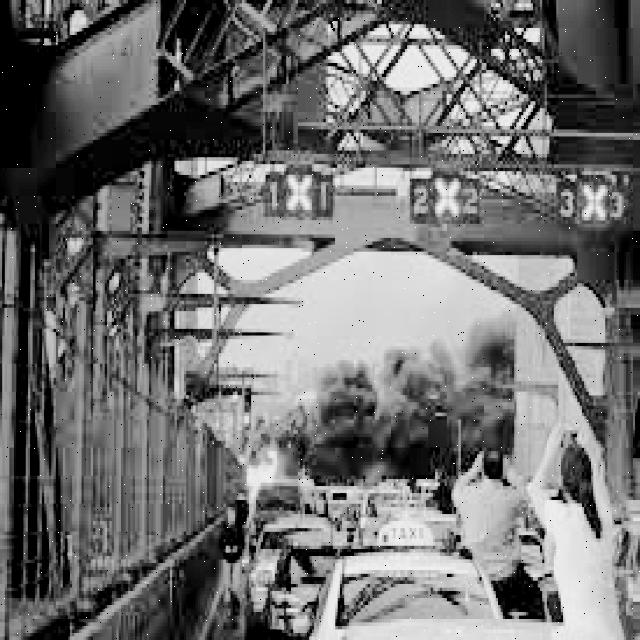api: (206, 407, 306, 512)
